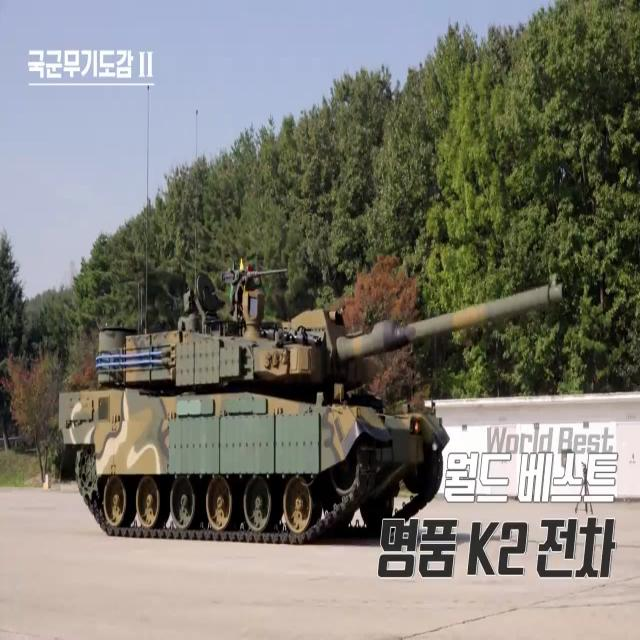korea tank: (58, 258, 570, 543)
